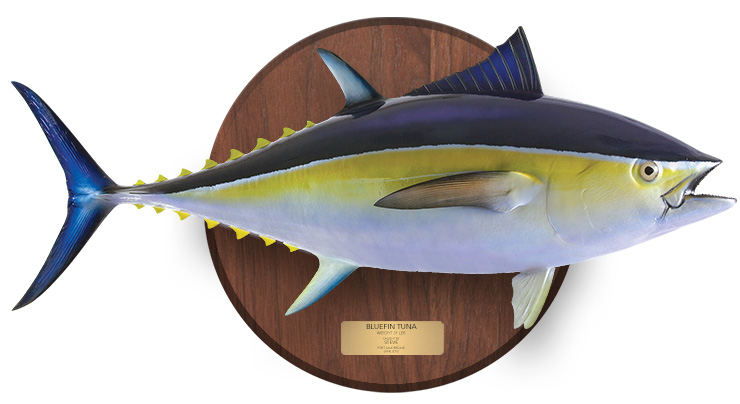Bluefina Tuna: (8, 38, 737, 327)
